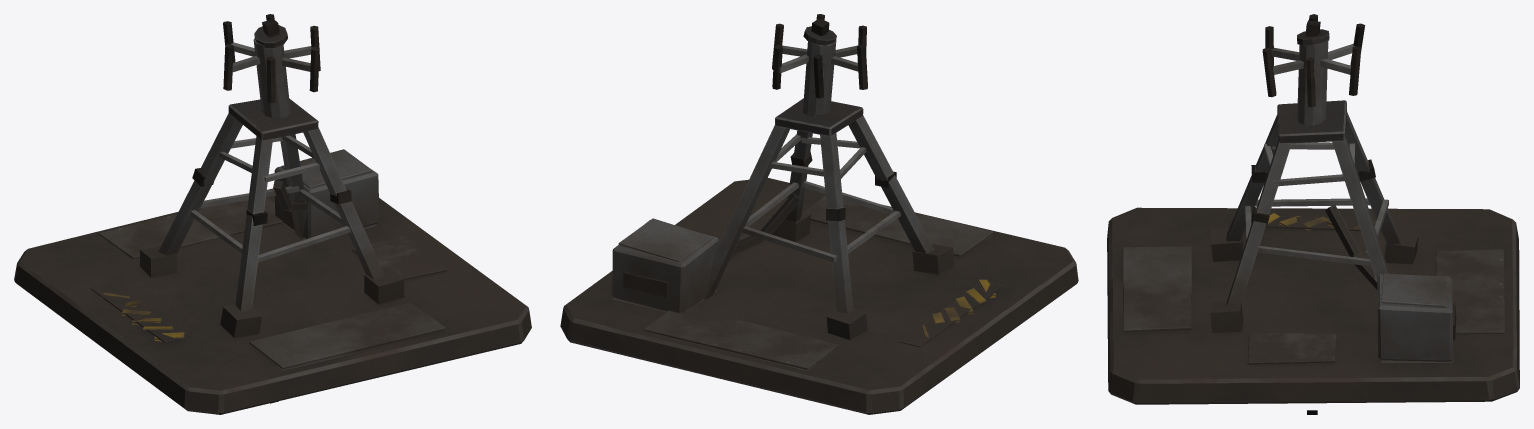
The model's file is chs_smog_wreck.fbx.
3 views of the same model, side by side, from view 1: azimuth 30°, elevation 25°; view 2: azimuth 150°, elevation 25°; view 3: azimuth 270°, elevation 25° (orthographic). The views are drawn at different scales.
Visible parts, largest first — view 1: base_bar, spine_bar; view 2: base_bar, spine_bar; view 3: base_bar, spine_bar.
Boxes of the visible parts, x1,y1,x2,y2 form: base_bar: (14,98,531,414); spine_bar: (223,14,320,118); base_bar: (560,98,1078,414); spine_bar: (772,14,867,116); base_bar: (1107,100,1519,404); spine_bar: (1262,14,1365,125).
Bounding box in the file's own units: 775 × 808 × 775.
2 materials, 2 textured.
